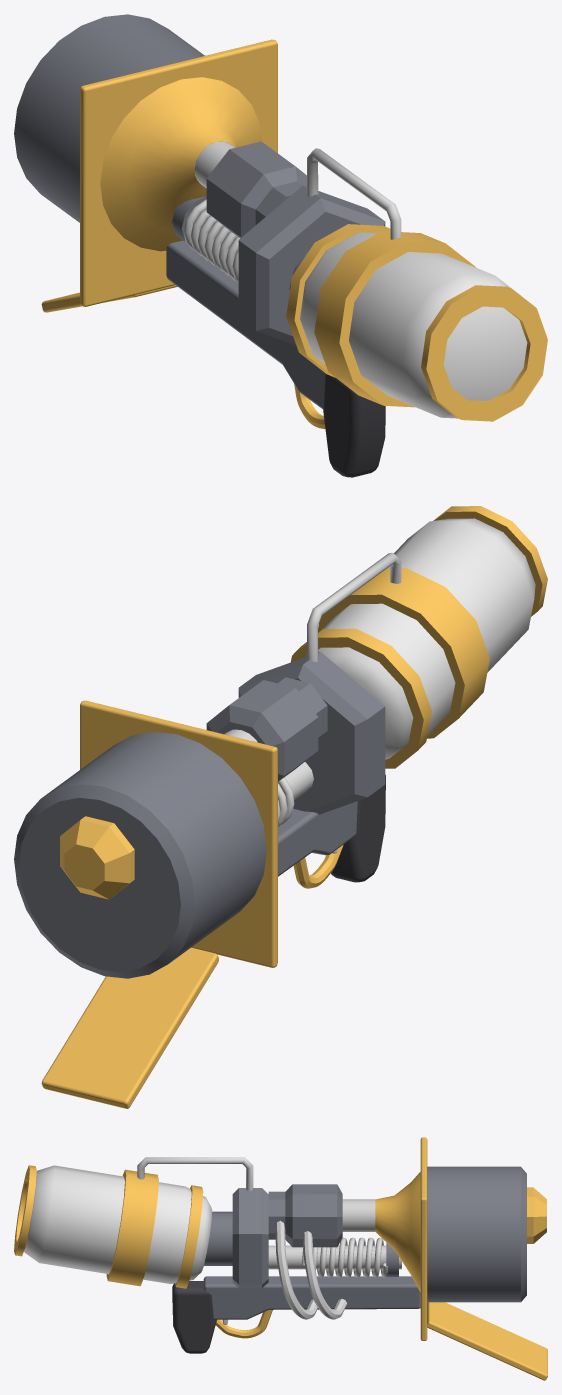
Rendered from W_Blaster.fbx.
3 views of the same model, one above another, from view 1: azimuth 30°, elevation 25°; view 2: azimuth 150°, elevation 25°; view 3: azimuth 270°, elevation 25° (orthographic). The views are drawn at different scales.
Visible parts, largest first — view 1: Blaster_Body; view 2: Blaster_Body; view 3: Blaster_Body.
Part boxes in pixels (x1,y1,x2,y2): Blaster_Body: (14,14,547,477); Blaster_Body: (14,506,547,1108); Blaster_Body: (14,1137,547,1380).
Bounding box in the file's own units: 44.86 × 70.64 × 163.
